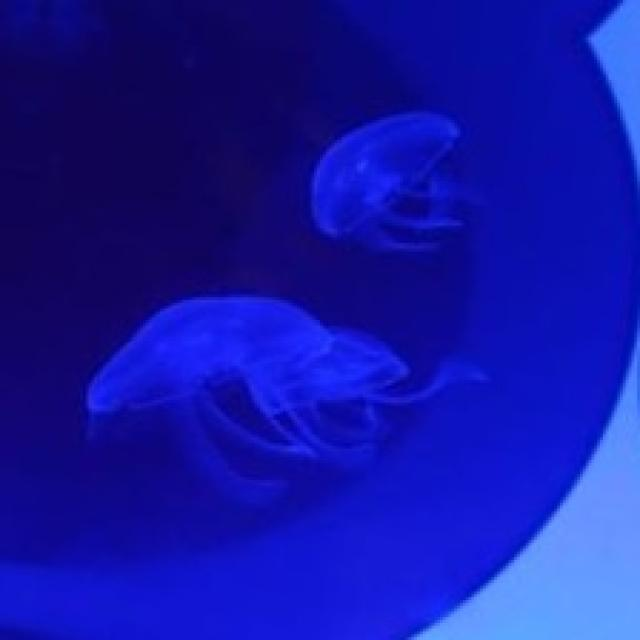Box-jellyfish: (80, 289, 489, 514), (306, 106, 477, 260)
